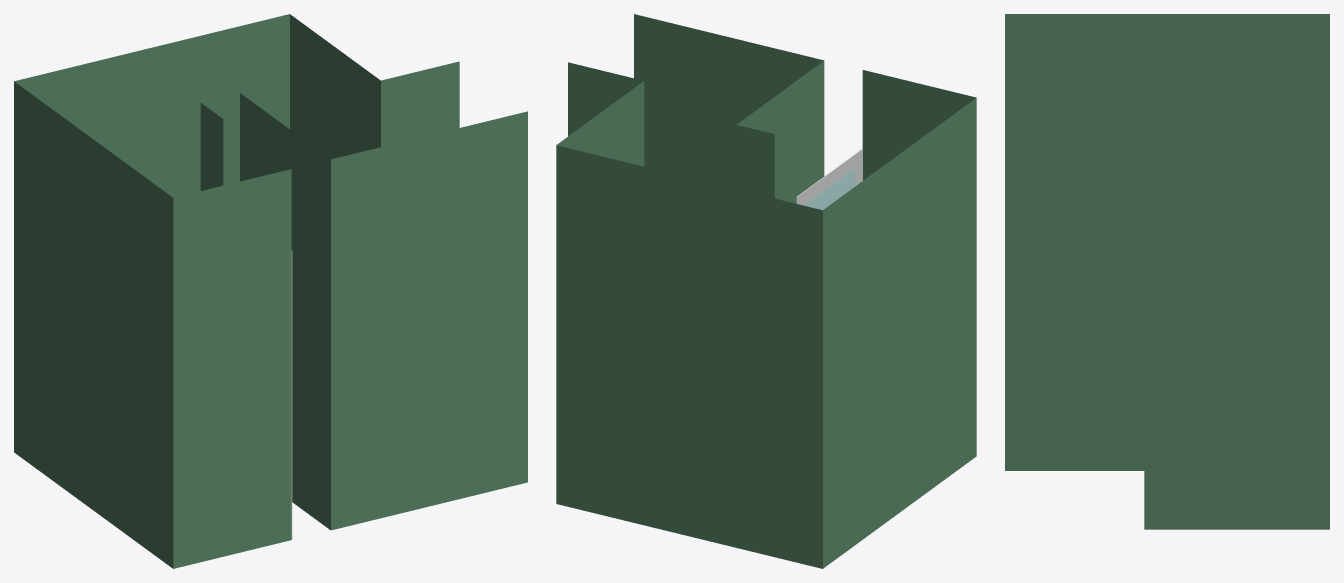
The model's file is green3.fbx.
The picture shows the model from 3 angles, left to right: view 1: azimuth 30°, elevation 25°; view 2: azimuth 150°, elevation 25°; view 3: azimuth 270°, elevation 25°; orthographic projection. The views are drawn at different scales.
Visible parts, largest first — view 1: pPlane26, pPlane21, pPlane22, pPlane20, pPlane25, pPlane18, pPlane19, pPlane23, pPlane24; view 2: pPlane20, pPlane21, pPlane26, pPlane22, pPlane25, pPlane18, pPlane19, pPlane24, pPlane23, door_trim, door; view 3: pPlane18, pPlane25, pPlane21, pPlane23.
Boxes of the visible parts, box(x1,y1,x2,y2) form: pPlane26: box(331, 111, 527, 530); pPlane21: box(14, 81, 173, 568); pPlane22: box(173, 169, 291, 568); pPlane20: box(14, 14, 289, 197); pPlane25: box(240, 93, 330, 530); pPlane18: box(290, 14, 380, 159); pPlane19: box(381, 61, 459, 146); pPlane23: box(200, 103, 223, 190); pPlane24: box(201, 93, 239, 185); pPlane20: box(556, 145, 822, 568); pPlane21: box(823, 98, 976, 568); pPlane26: box(634, 14, 823, 188); pPlane22: box(862, 70, 976, 180); pPlane25: box(736, 61, 824, 196); pPlane18: box(556, 81, 644, 166); pPlane19: box(568, 62, 643, 136); pPlane24: box(736, 125, 774, 198); pPlane23: box(774, 118, 796, 203); door_trim: box(796, 149, 862, 205); door: box(804, 168, 855, 210); pPlane18: box(1144, 151, 1329, 529); pPlane25: box(1005, 92, 1190, 470); pPlane21: box(1005, 14, 1329, 151); pPlane23: box(1144, 72, 1190, 92).
Size of the model in its own units: 2.74 by 2.74 by 2.13.
